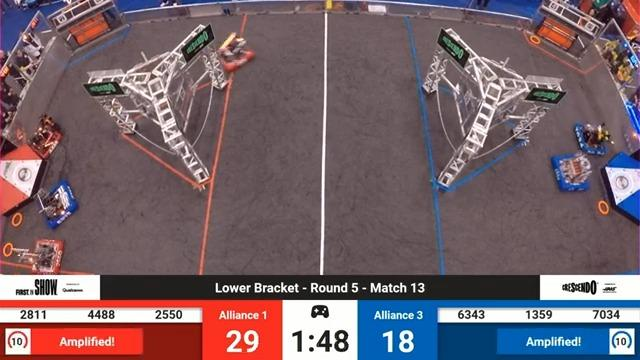robot: (32, 179, 82, 228), (17, 113, 68, 160), (552, 145, 596, 197), (12, 236, 66, 275), (214, 28, 249, 75), (571, 121, 616, 157)
